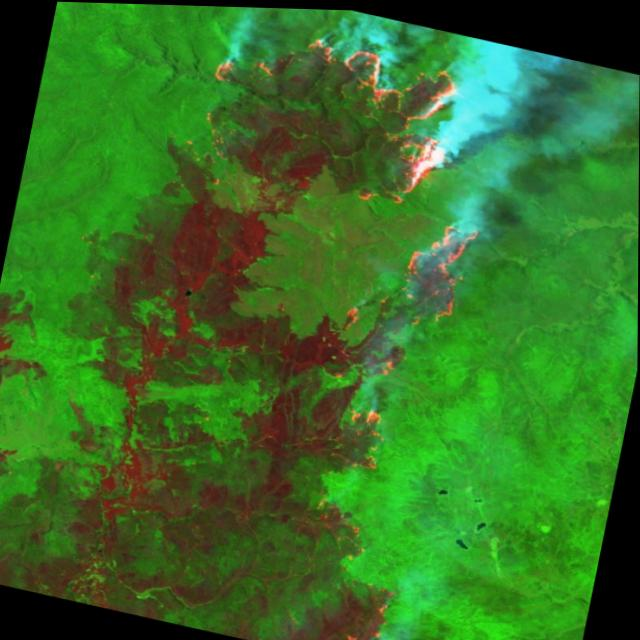fire: (89, 2, 521, 640)
